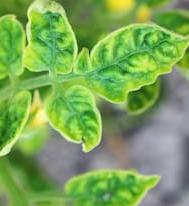Tomato leaf yellow virus: (78, 19, 189, 98), (66, 159, 186, 206), (21, 0, 83, 84), (47, 79, 110, 156), (0, 85, 25, 171)
